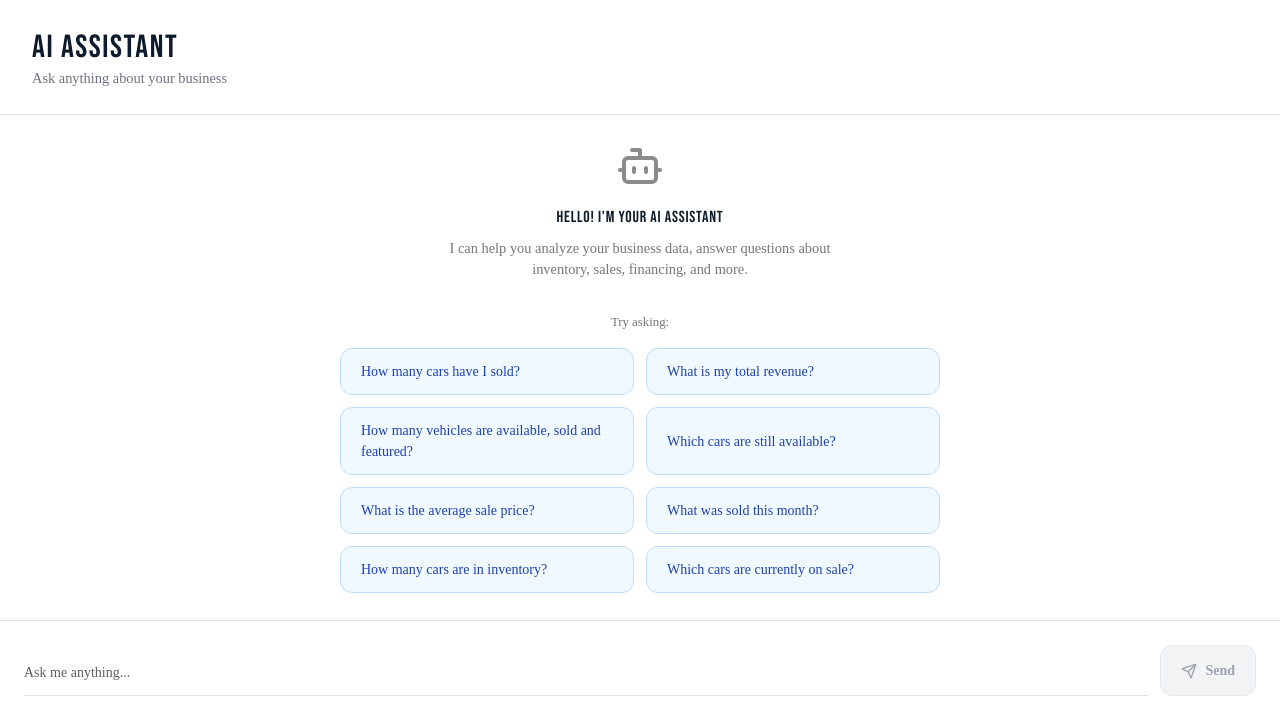
Test: AdminAI - session persistence (navigation-safe conversation) › does not log message state/content to the console during normal operation
Type "How many cars have I sold?" into the field with placeholder "Ask me anything..." at (586, 670), box [24,645,1148,696]
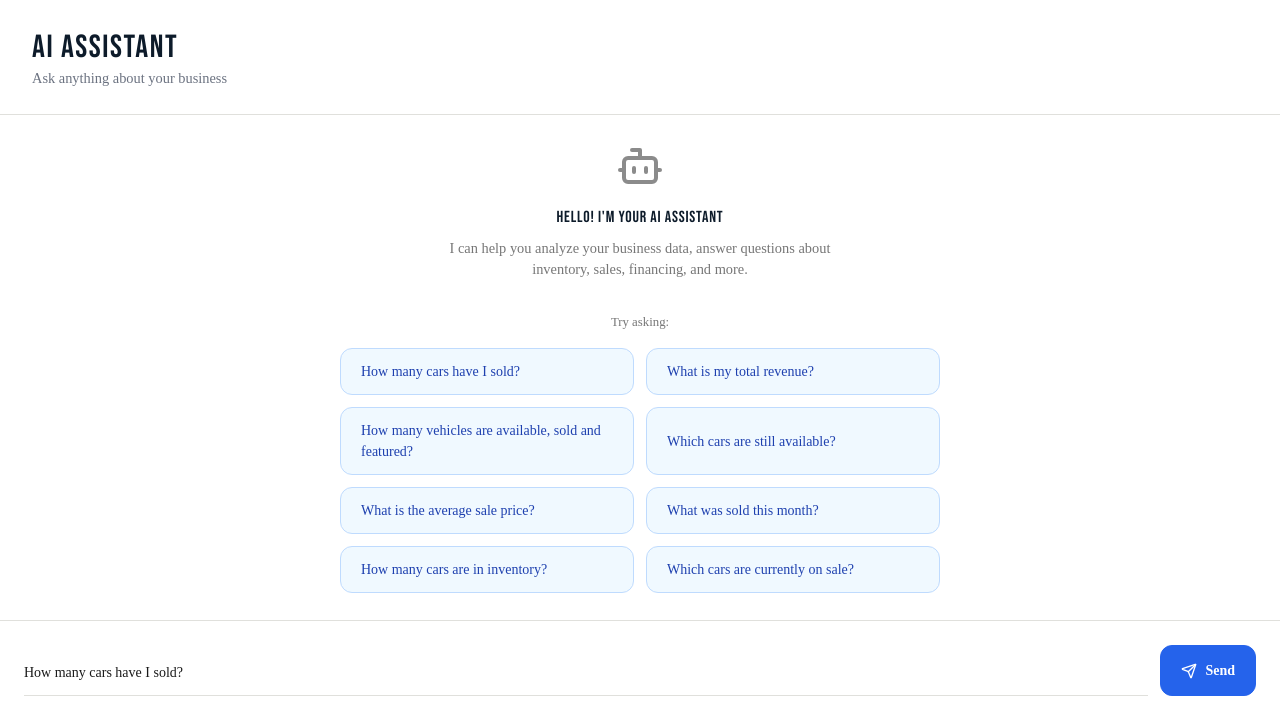
Click the button with id "admin-ai-send-button" at (1208, 670), box [1160,645,1256,696]
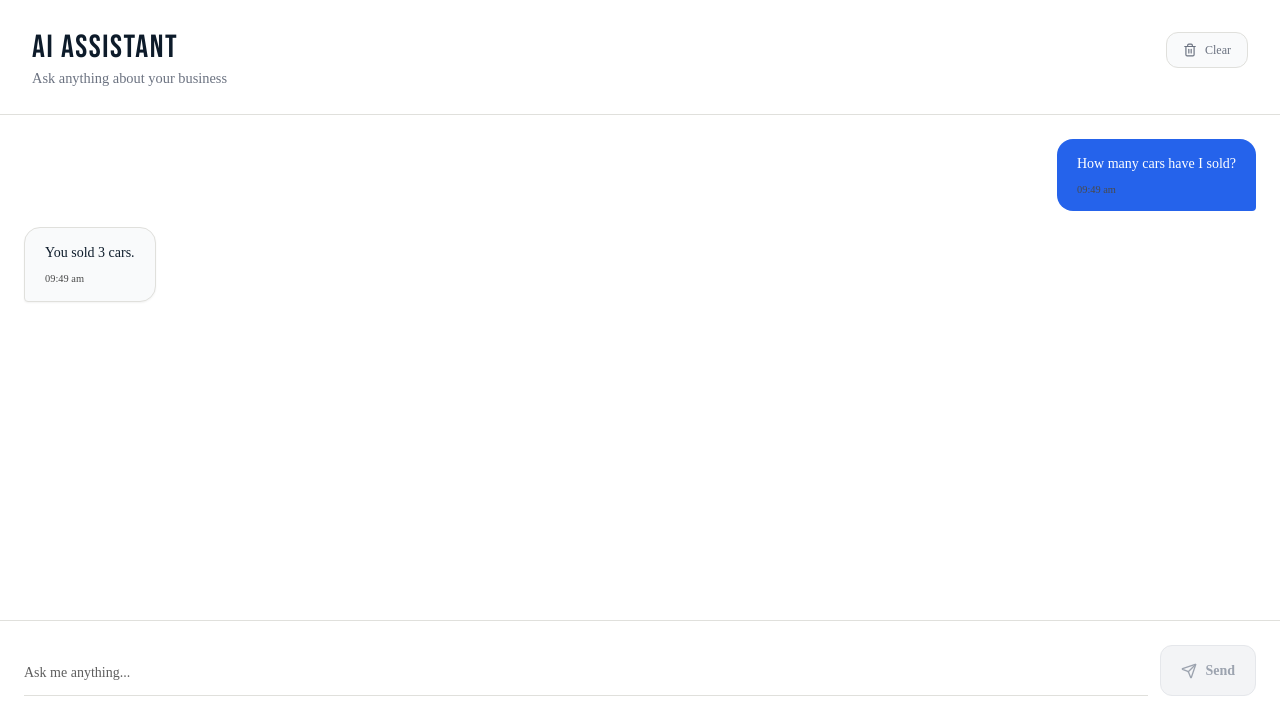
Check: the text "You sold 3 cars." is shown, box [45,245,135,260]
